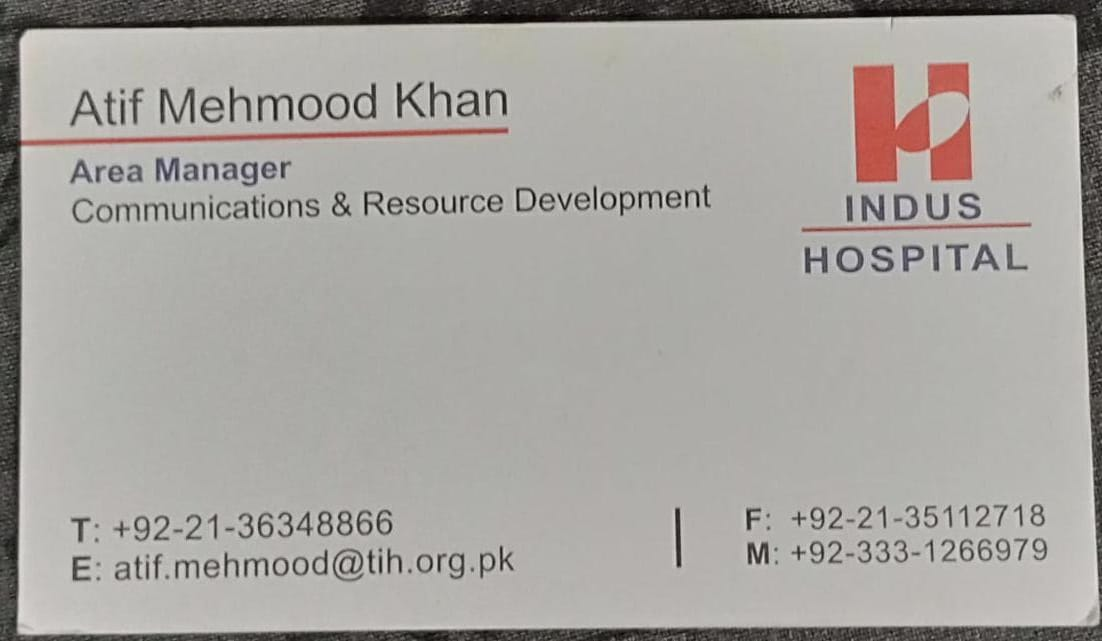alphabetical: (59, 66, 508, 130), (63, 147, 299, 188)
numerical: (106, 500, 400, 546), (780, 492, 1052, 535), (788, 535, 1054, 568)
